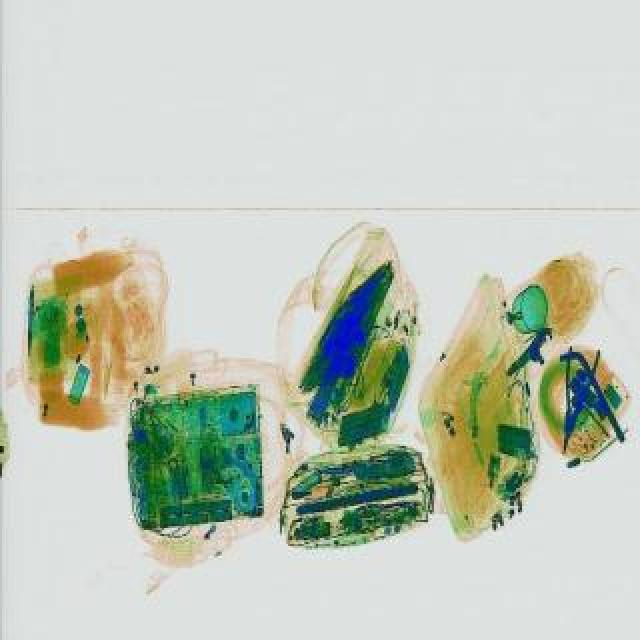wrench: (546, 346, 602, 458)
